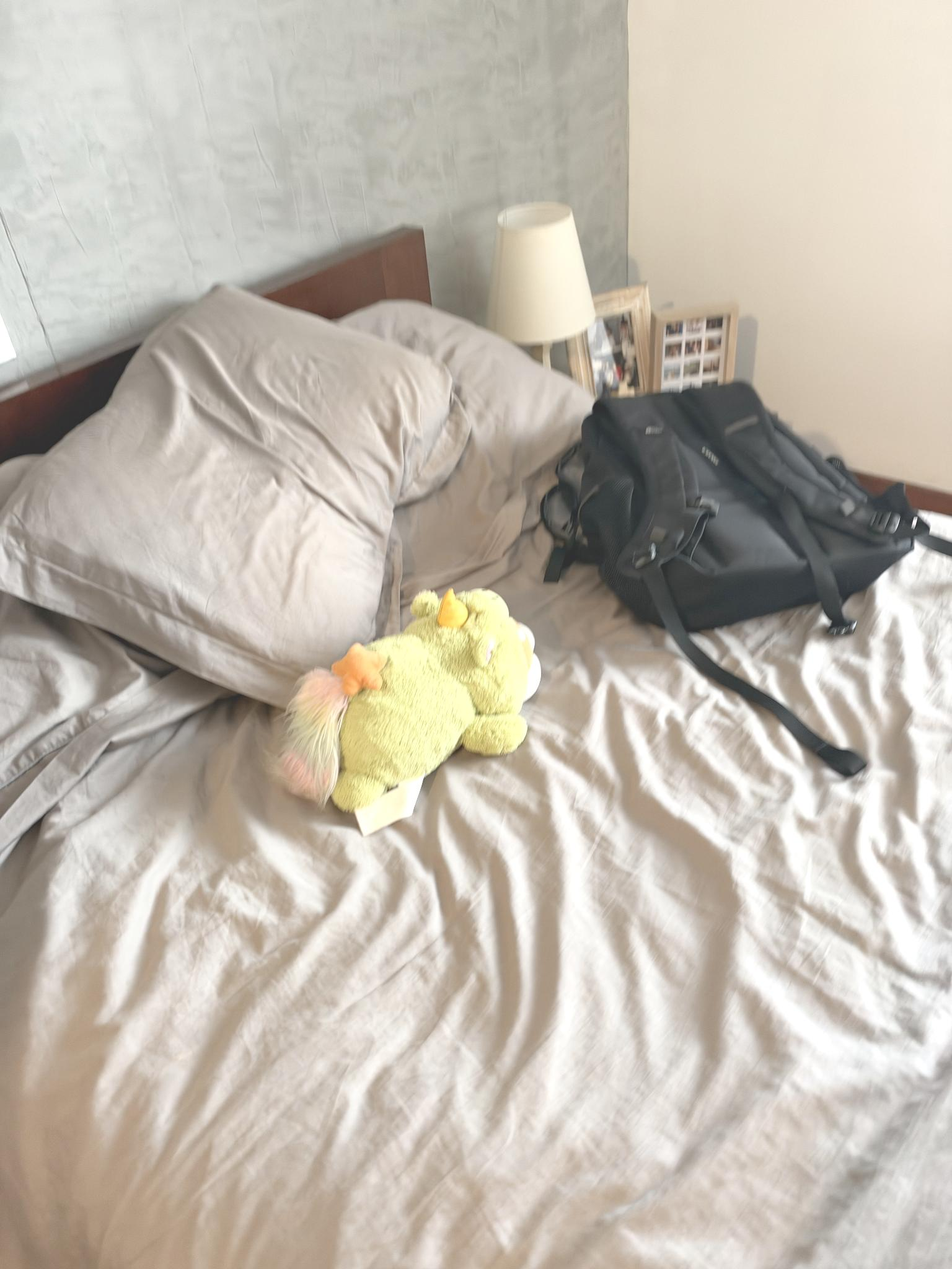peluche_martin: (262, 587, 542, 839)
